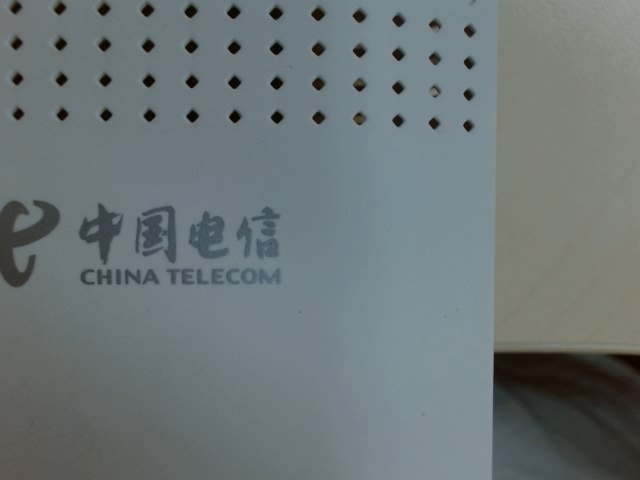AB_ChinaTelecom: (1, 189, 292, 303)
